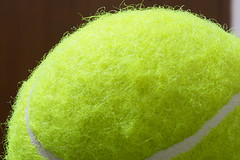tennis ball: (4, 6, 240, 158)
